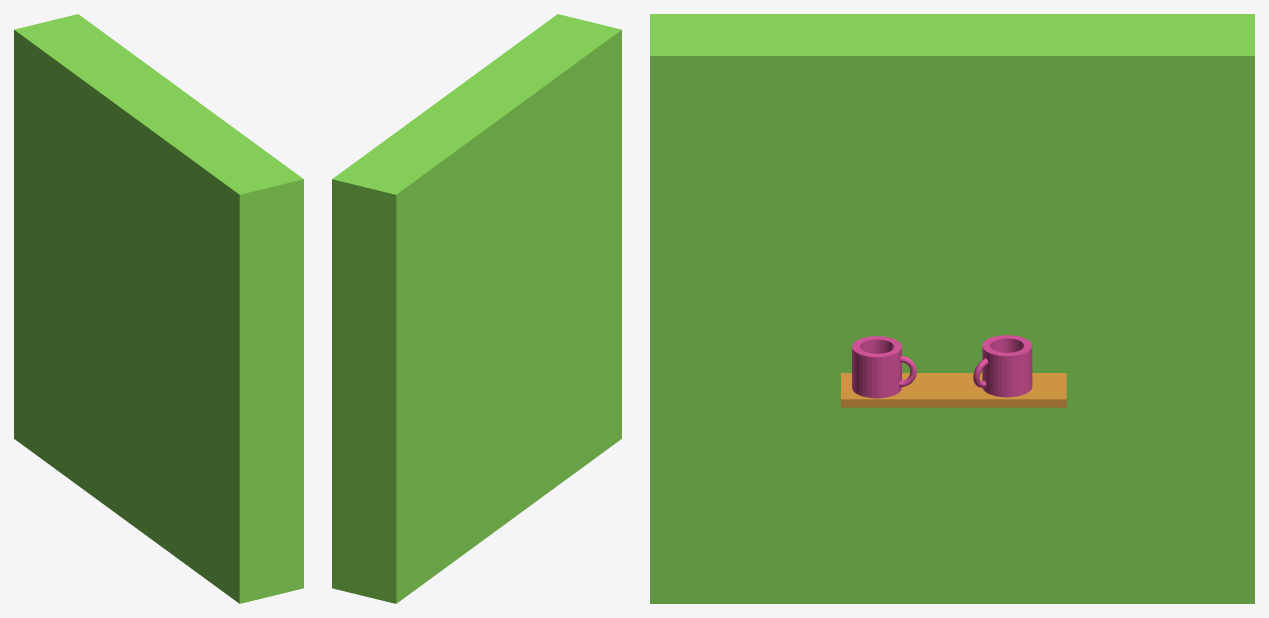
Rendered from kabe.fbx.
3 renders of one model, left to right at view 1: azimuth 30°, elevation 25°; view 2: azimuth 150°, elevation 25°; view 3: azimuth 270°, elevation 25°, orthographic. The views are drawn at different scales.
Parts seen in each view (by area): view 1: 立方体.001; view 2: 立方体.001; view 3: 立方体.001, 立方体, 円柱, 円柱.001.
Part boxes in pixels (left/top/right/bottom): 立方体.001: left=14, top=14, right=303, bottom=603; 立方体.001: left=332, top=14, right=621, bottom=603; 立方体.001: left=650, top=14, right=1254, bottom=603; 立方体: left=841, top=373, right=1066, bottom=407; 円柱: left=852, top=336, right=901, bottom=398; 円柱.001: left=982, top=335, right=1032, bottom=397.
Bounding box in the file's own units: 446 × 1670 × 1670.
